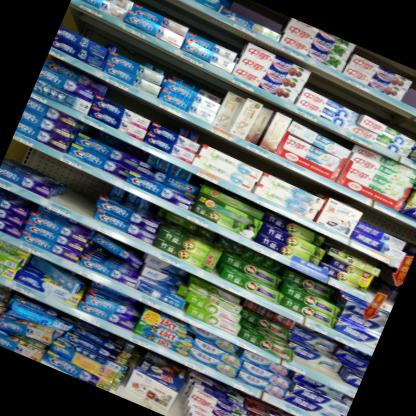empty_space: (57, 168, 105, 217), (121, 388, 183, 416), (407, 78, 416, 113)
